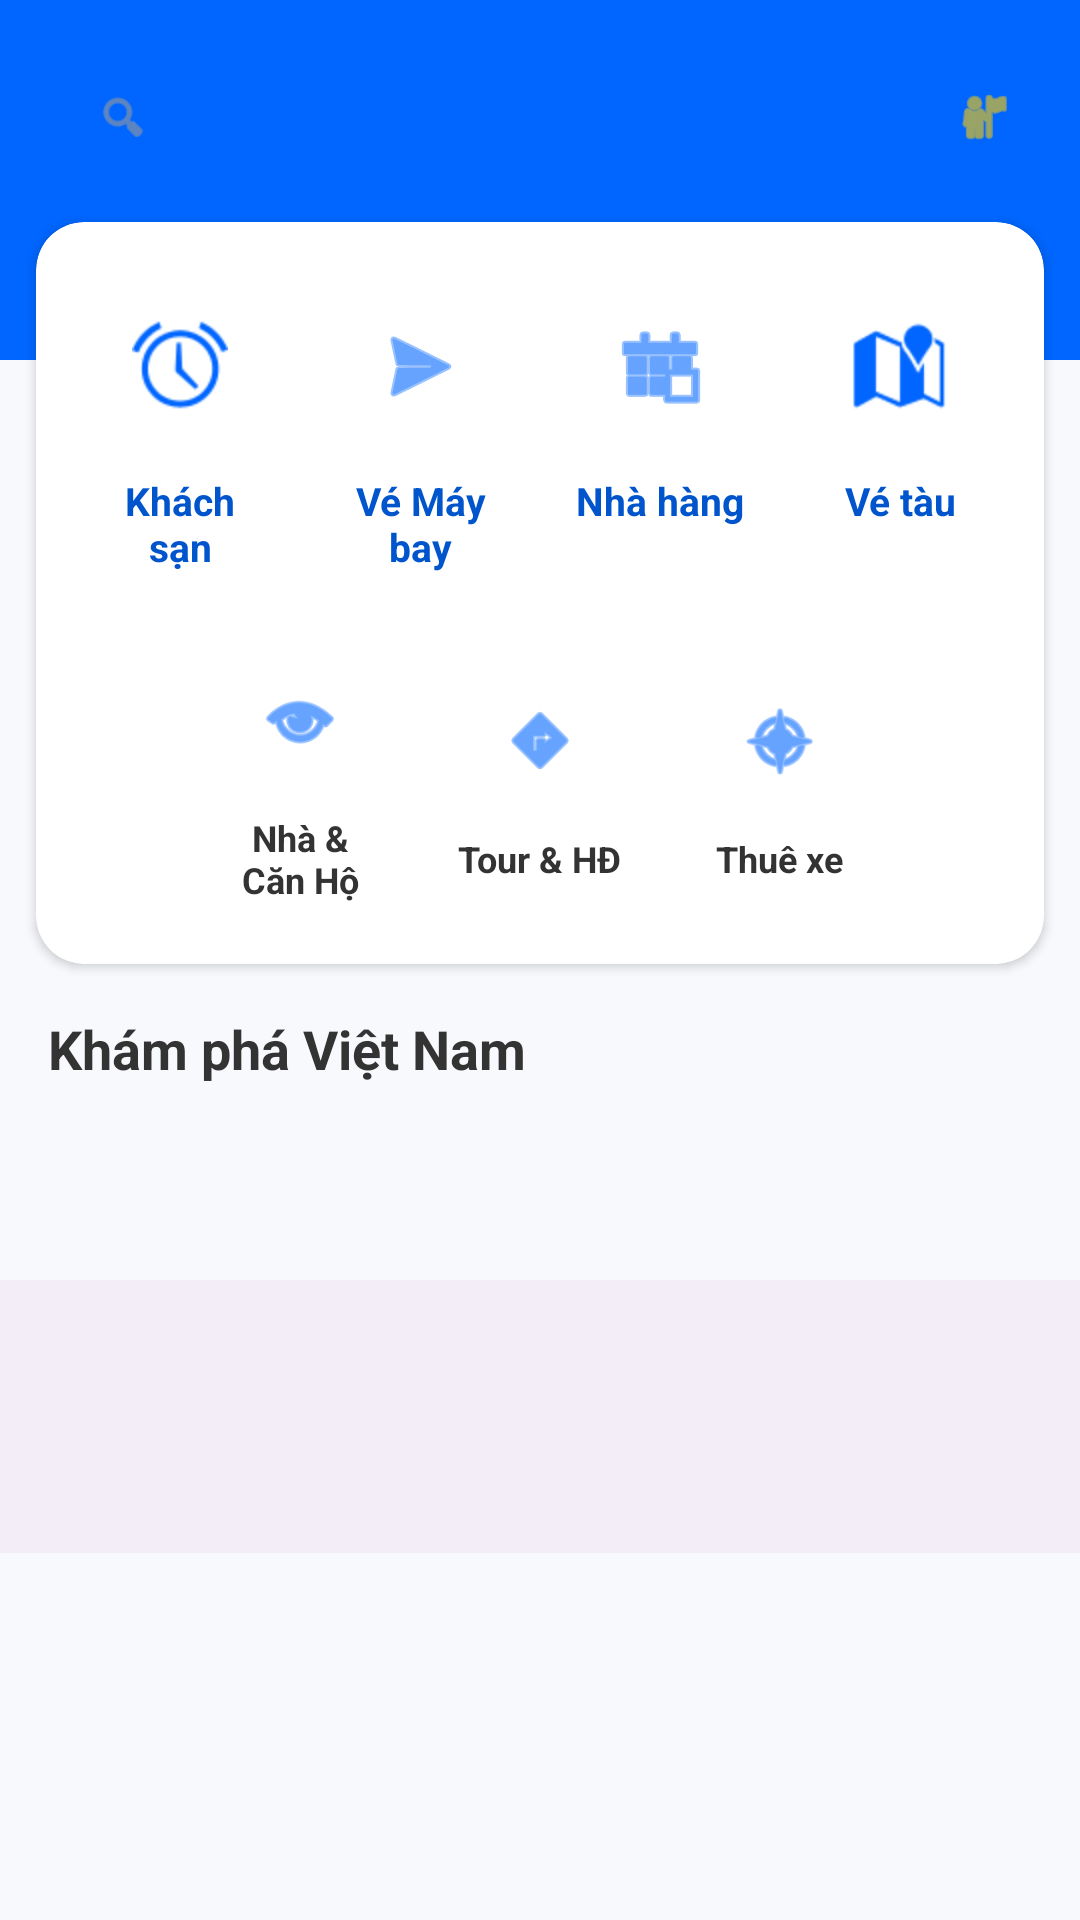

Icon bounding boxes for this 1080px×1920px phone screenshot, format (x1, y1, x2, y2):
directions: (511, 712, 569, 769)
lock idle alarm: (132, 321, 228, 409)
map: (853, 323, 945, 408)
search: (103, 97, 143, 137)
send: (390, 336, 452, 397)
today: (622, 331, 700, 404)
view: (266, 701, 334, 744)
